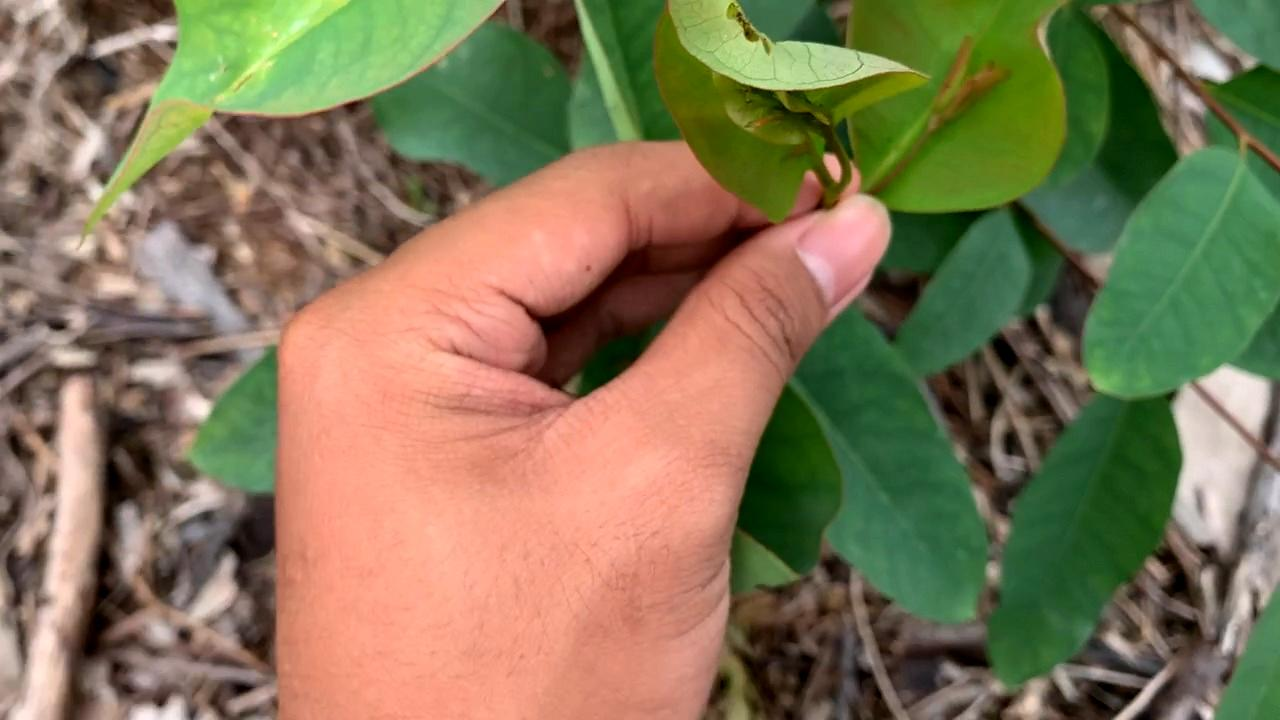Leaf Roller - Leaf: (631, 0, 913, 215)
